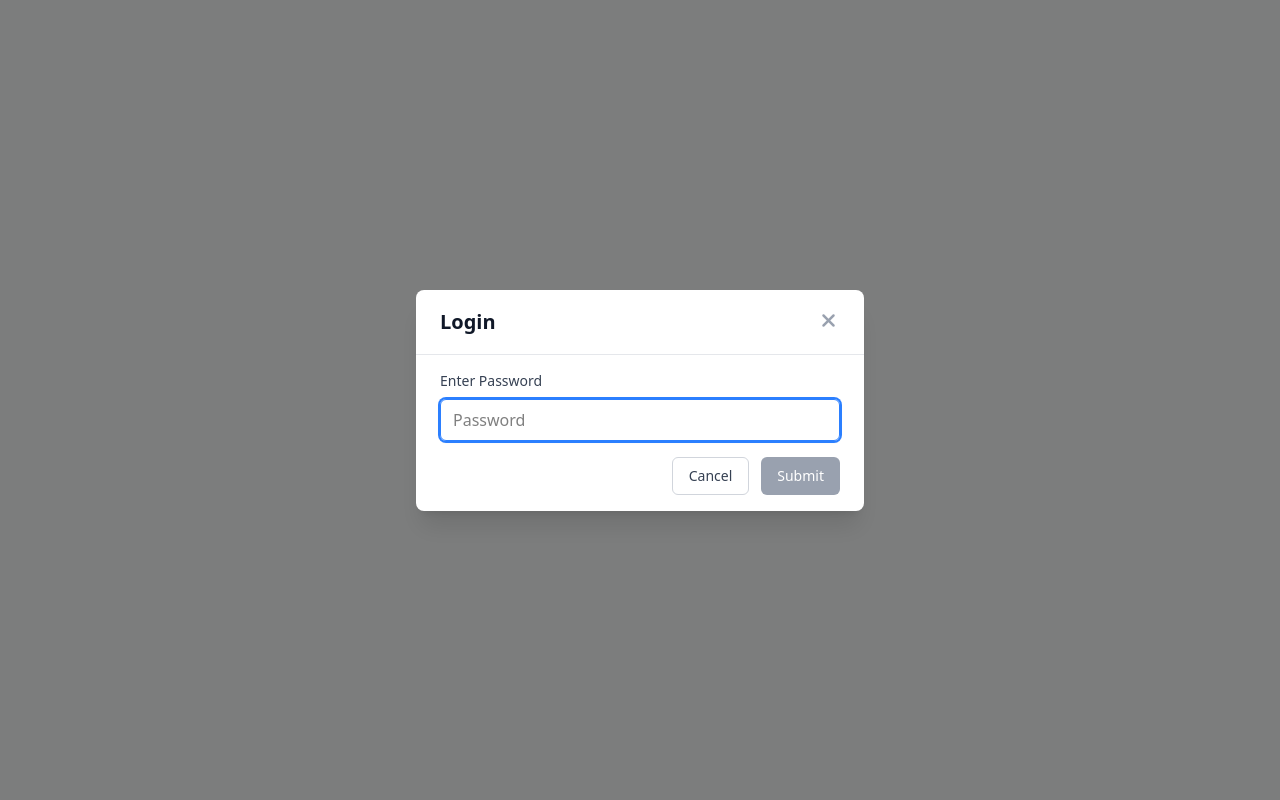
Scenario: PasswordDialog Component › Submit Button State › should enable submit button when password is entered
The image size is (1280, 800).
Type "any-password" into the password field labelled "Enter Password" at (640, 420), box [440,398,840,440]
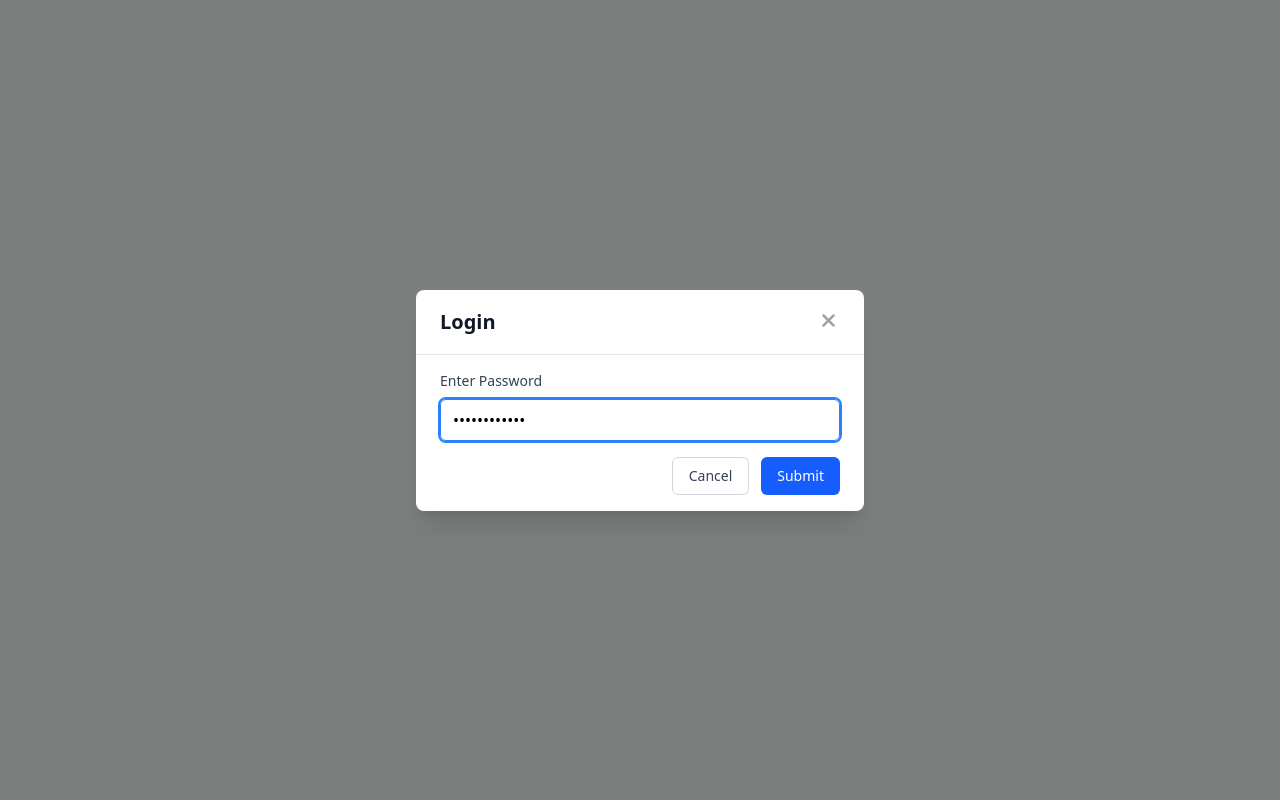
Check: the button "Submit" is enabled, box [761,456,840,494]
